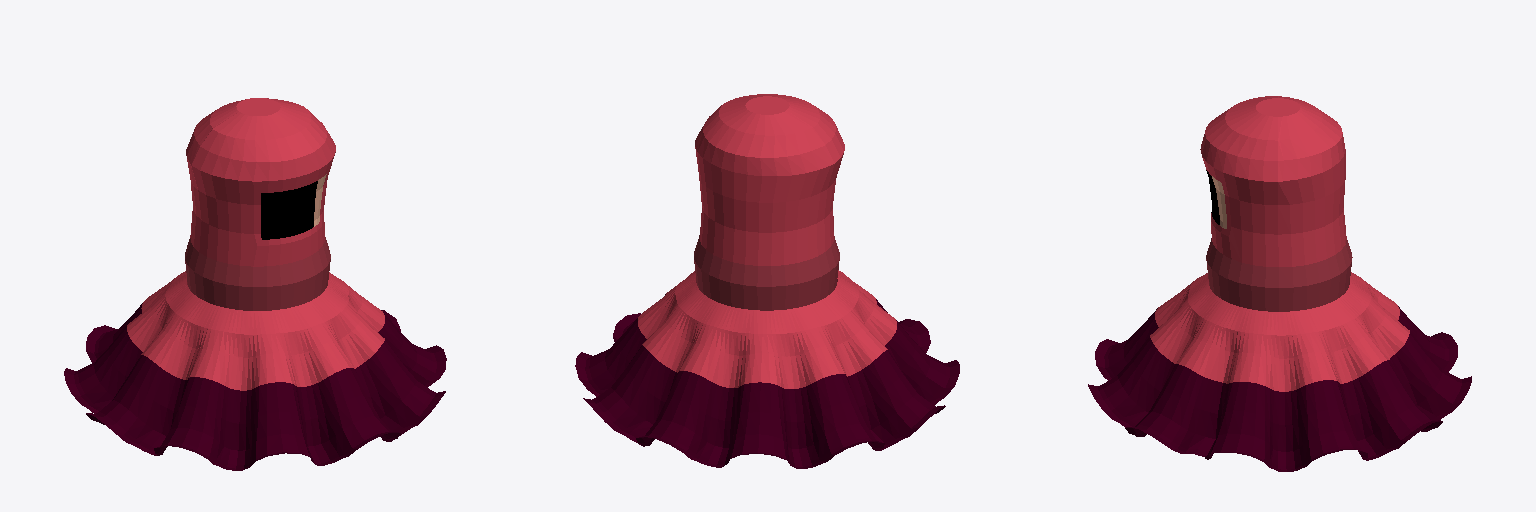
3 views of the same model, side by side, from view 1: azimuth 30°, elevation 25°; view 2: azimuth 150°, elevation 25°; view 3: azimuth 270°, elevation 25° (orthographic).
Parts seen in each view (by area): view 1: Skirt_Cylinder.003, Cylinder; view 2: Skirt_Cylinder.003, Cylinder; view 3: Skirt_Cylinder.003, Cylinder.
Boxes of the visible parts, x1,y1,x2,y2 form: Skirt_Cylinder.003: [64, 271, 446, 470]; Cylinder: [185, 98, 335, 310]; Skirt_Cylinder.003: [575, 270, 959, 468]; Cylinder: [694, 94, 844, 310]; Skirt_Cylinder.003: [1088, 272, 1471, 471]; Cylinder: [1200, 96, 1352, 311].
Bounding box in the file's own units: 0.7468 × 0.6405 × 0.7477.
3 materials, 1 textured.